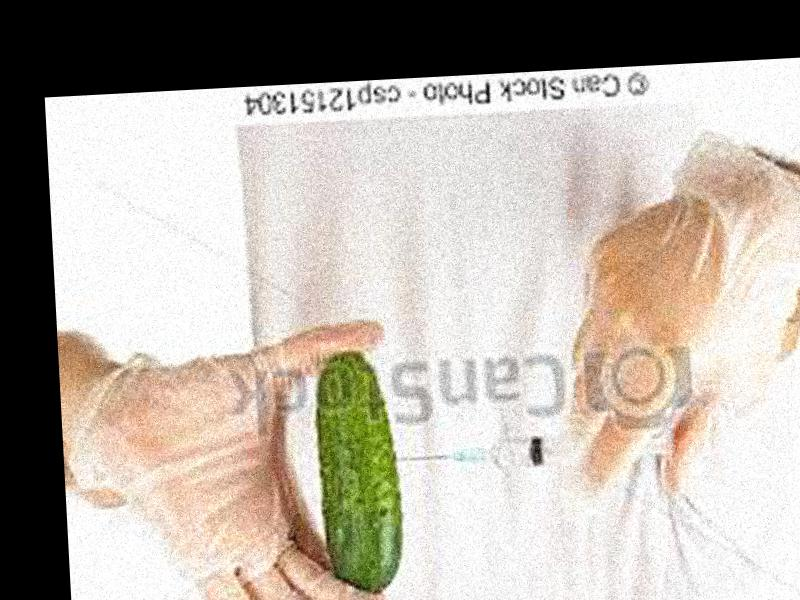Cucumber: (309, 345, 402, 596)
